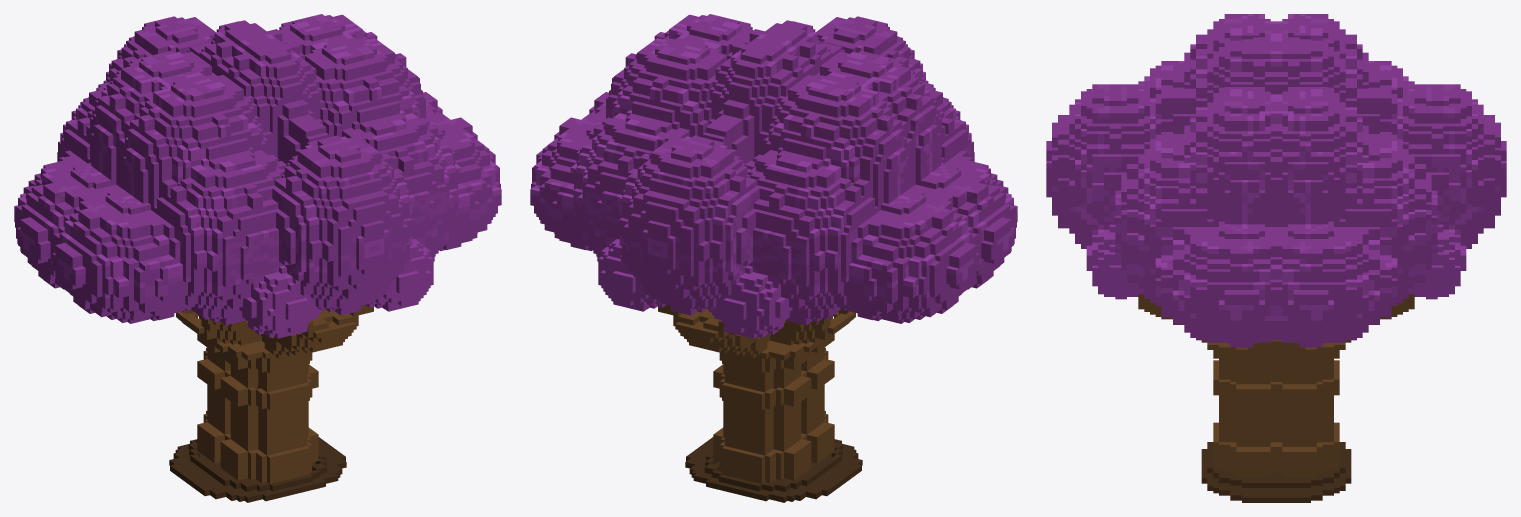
Rendered from Arbórea - Ipê roxo.obj.
3 views of the same model, side by side, from view 1: azimuth 30°, elevation 25°; view 2: azimuth 150°, elevation 25°; view 3: azimuth 270°, elevation 25° (orthographic).
Size of the model in its own units: 8.4 by 8.1 by 8.
Materials: 1 (1 with a texture image).
